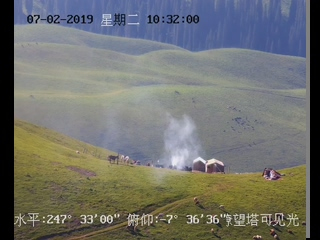smoke: (158, 112, 204, 174)
